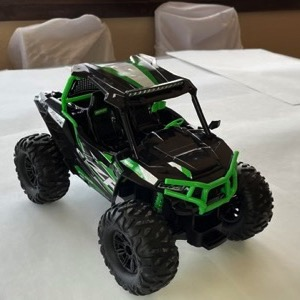polaris: (13, 54, 277, 299)
